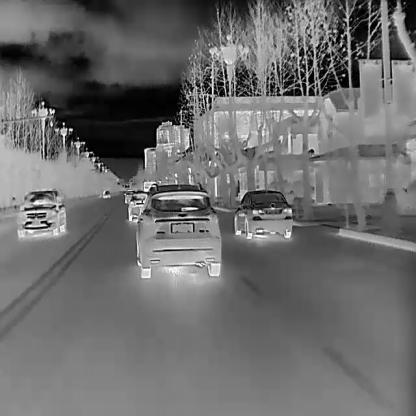bus: (142, 180, 155, 192)
car: (134, 183, 221, 278), (232, 189, 293, 238), (15, 188, 66, 237), (126, 189, 150, 221), (101, 190, 110, 198)
